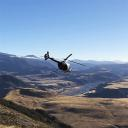helicopter: (41, 53, 88, 77)
